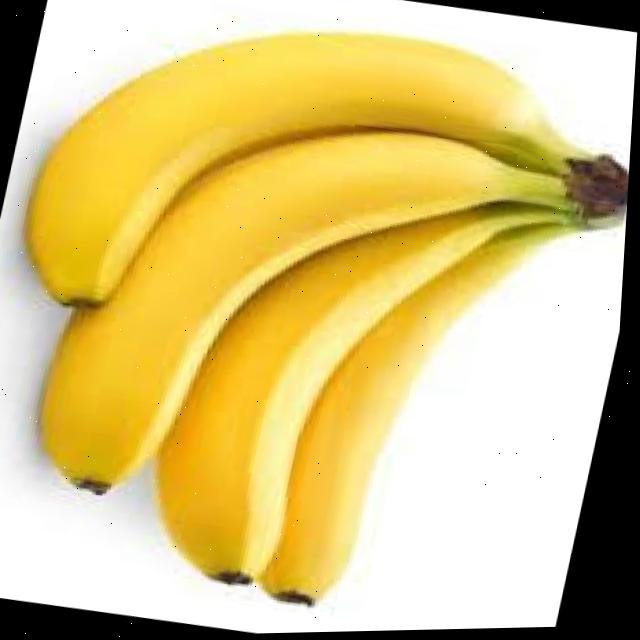Banana: (49, 134, 570, 486), (166, 209, 568, 580), (33, 37, 582, 308), (270, 228, 580, 605), (598, 402, 609, 441)
